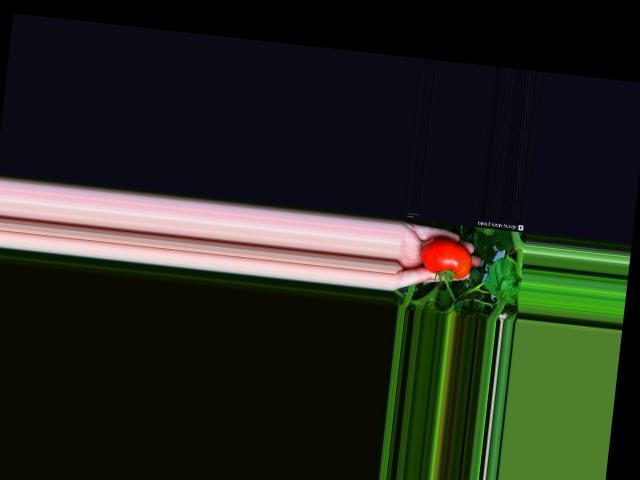tomato: (418, 235, 473, 279)
